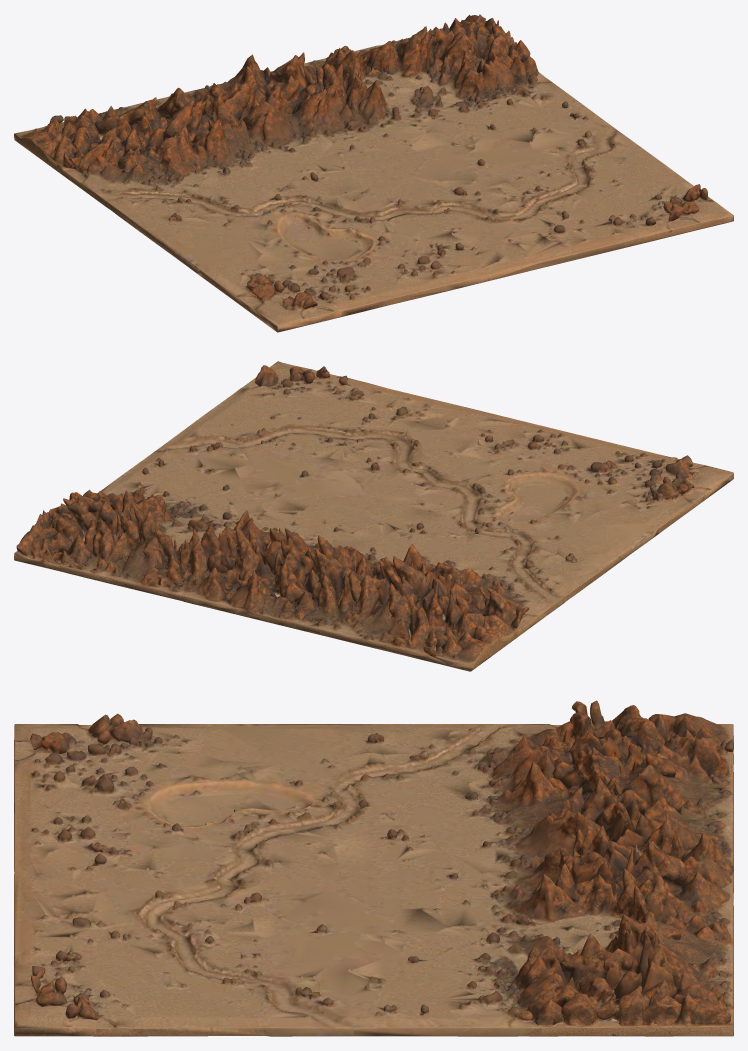
The model's file is desert-plain.glb.
3 renders of one model, top to bottom at view 1: azimuth 30°, elevation 25°; view 2: azimuth 150°, elevation 25°; view 3: azimuth 270°, elevation 25°, orthographic. The views are drawn at different scales.
Parts seen in each view (by area): view 1: Mesh_0; view 2: Mesh_0; view 3: Mesh_0.
Part boxes in pixels (x1,y1,x2,y2): Mesh_0: (14,14,733,332); Mesh_0: (14,361,733,671); Mesh_0: (14,700,733,1036).
Bounding box in the file's own units: 30421 × 3001 × 30410.
Materials: 1 (1 with a texture image).
